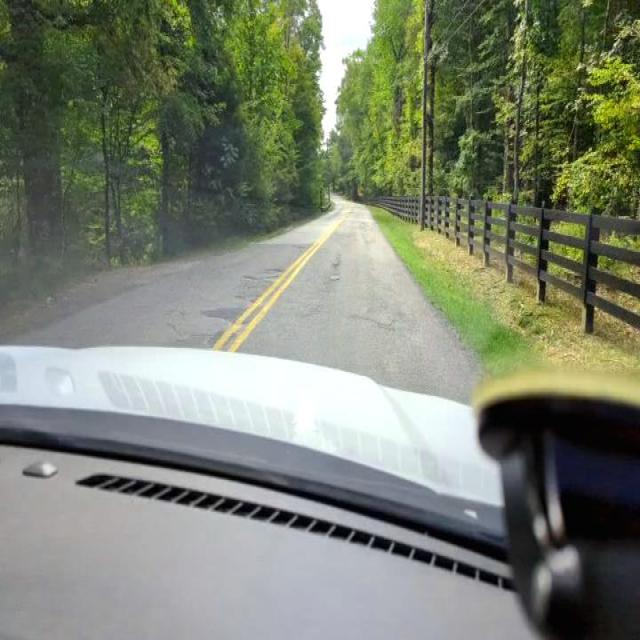pothole: (237, 262, 288, 306)
